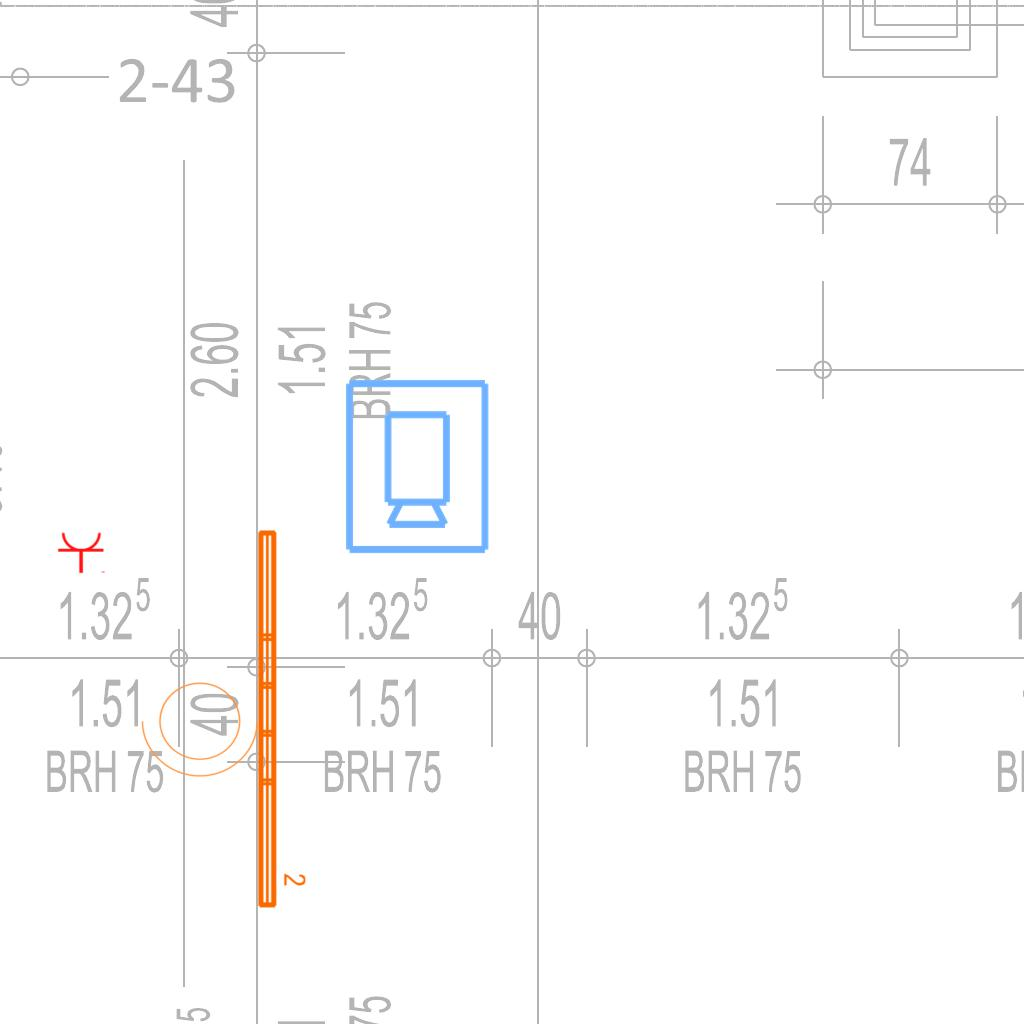Ambulanz_Pendelleuchte_LED: (252, 525, 308, 912)
KFO_Kamera_mit_Festobjektiv: (339, 375, 493, 557)
Scheinwerfer_fuer_Alarmbeleuchtung: (137, 670, 269, 782)
Schukosteckdose_einfach: (57, 531, 107, 574)
